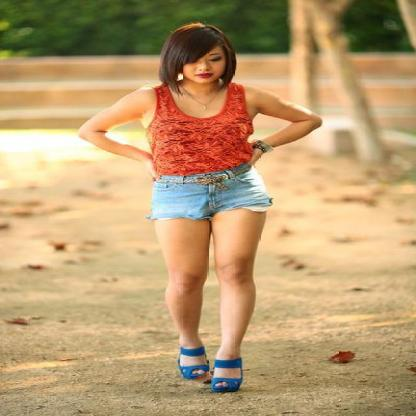shirt: (147, 82, 258, 178)
shoe: (178, 347, 241, 393)
shorts: (148, 163, 272, 224)
